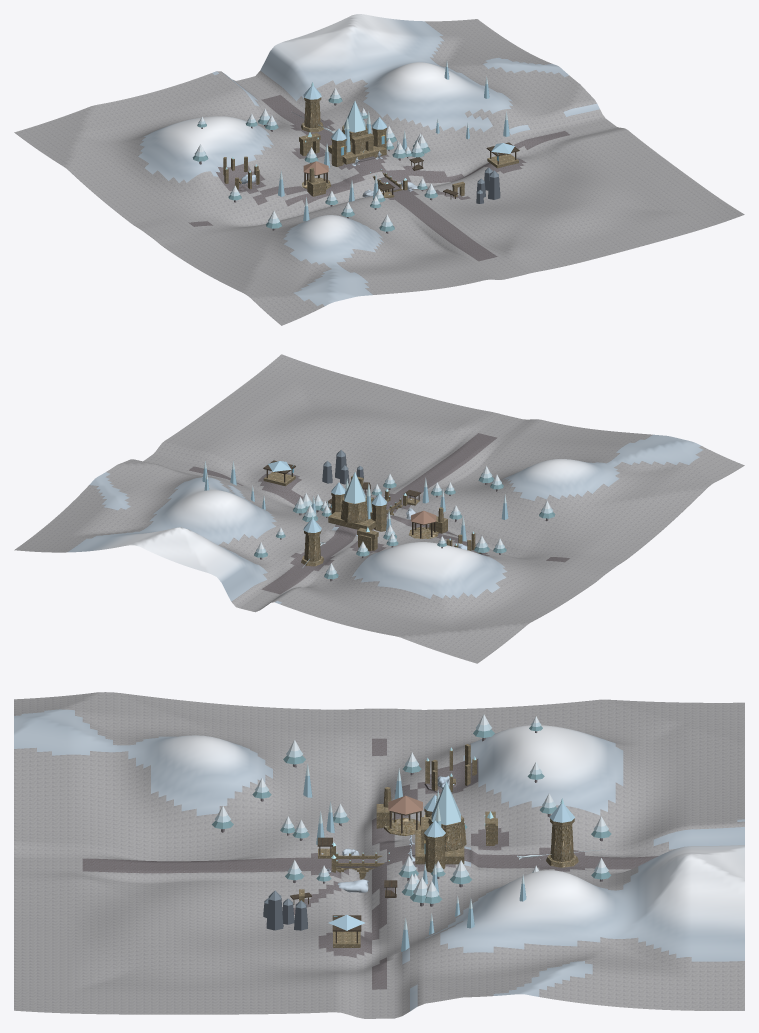
The model's file is world.glb.
3 renders of one model, top to bottom at view 1: azimuth 30°, elevation 25°; view 2: azimuth 150°, elevation 25°; view 3: azimuth 270°, elevation 25°, orthographic. The views are drawn at different scales.
Visible parts, largest first — view 1: borealis_Terrain, borealis_ImportedCatalogAndFlora, borealis_Roads, borealis_Masonry, borealis_Timber; view 2: borealis_Terrain, borealis_ImportedCatalogAndFlora, borealis_Roads, borealis_Masonry, borealis_Timber; view 3: borealis_Terrain, borealis_ImportedCatalogAndFlora, borealis_Roads, borealis_Masonry, borealis_Timber.
Part boxes in pixels (box(x1,y1,x2,y2)): borealis_Terrain: box(14, 19, 744, 325); borealis_ImportedCatalogAndFlora: box(138, 14, 599, 305); borealis_Roads: box(188, 95, 569, 261); borealis_Masonry: box(223, 97, 518, 197); borealis_Timber: box(304, 142, 519, 199); borealis_Terrain: box(14, 354, 744, 663); borealis_ImportedCatalogAndFlora: box(68, 434, 702, 603); borealis_Roads: box(189, 433, 569, 594); borealis_Masonry: box(263, 472, 480, 566); borealis_Timber: box(263, 460, 435, 538); borealis_Terrain: box(14, 692, 744, 1018); borealis_ImportedCatalogAndFlora: box(14, 709, 744, 1011); borealis_Roads: box(82, 738, 658, 989); borealis_Masonry: box(299, 744, 578, 947); borealis_Timber: box(290, 811, 421, 943).
Size of the model in its own units: 224 by 36.01 by 224.
5 materials, 4 textured.
